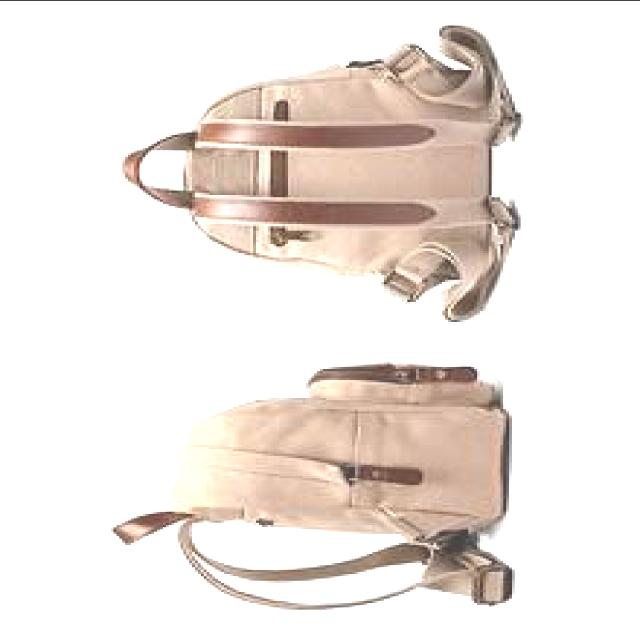backpack: (120, 26, 522, 325), (109, 362, 513, 612)
